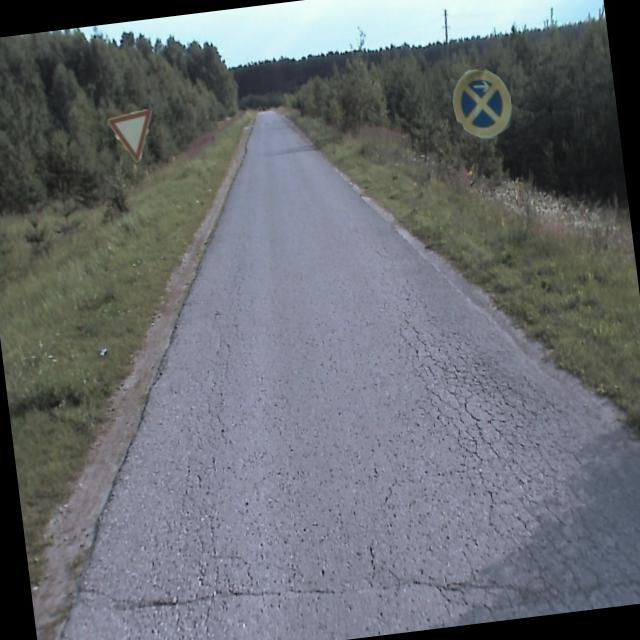road: (54, 110, 640, 640)
